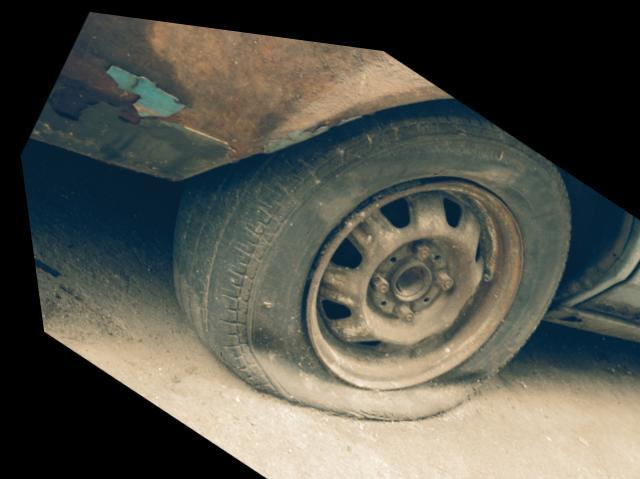tire flat: (165, 89, 569, 411)
